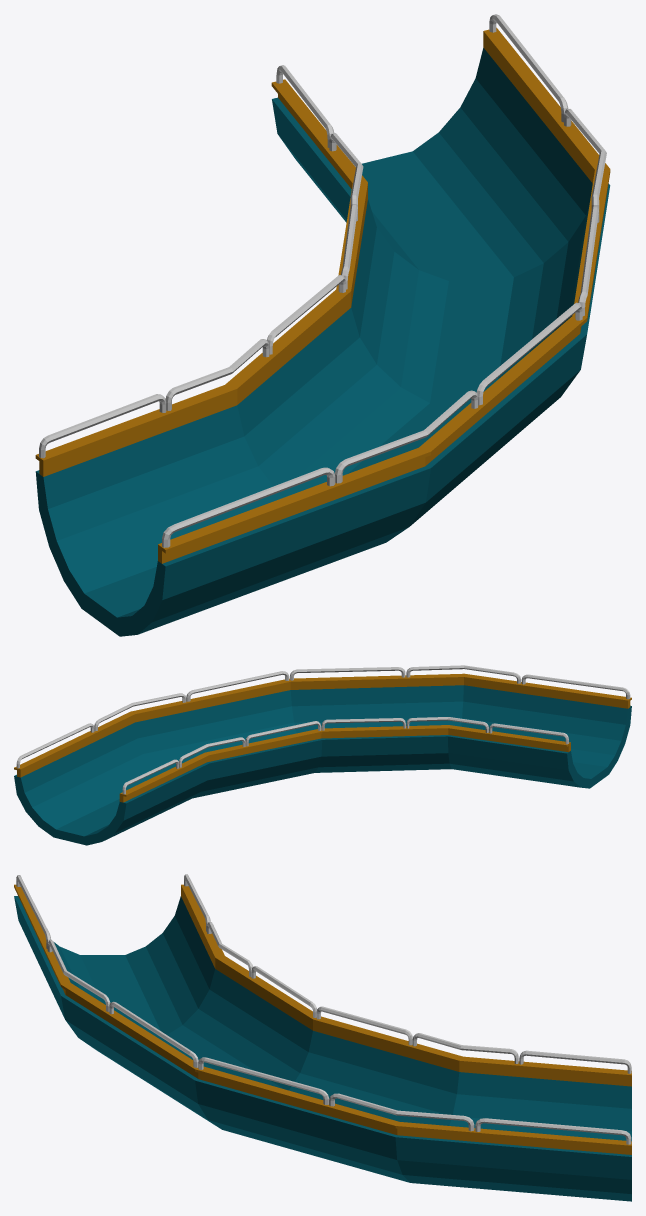
Rendered from halfpipe-curveRight-90_l.FBX.
3 renders of one model, top to bottom at view 1: azimuth 30°, elevation 25°; view 2: azimuth 150°, elevation 25°; view 3: azimuth 270°, elevation 25°, orthographic. The views are drawn at different scales.
Parts seen in each view (by area): view 1: halfpipe-curveRight-60_l, wall_l, wall_r; view 2: halfpipe-curveRight-60_l, wall_l, wall_r; view 3: halfpipe-curveRight-60_l, wall_l, wall_r.
Boxes of the visible parts, x1=… form: halfpipe-curveRight-60_l: x1=35, y1=48, x2=610, y2=636; wall_l: x1=158, y1=14, x2=610, y2=563; wall_r: x1=35, y1=65, x2=367, y2=476; halfpipe-curveRight-60_l: x1=14, y1=685, x2=631, y2=845; wall_l: x1=14, y1=665, x2=631, y2=777; wall_r: x1=119, y1=717, x2=570, y2=802; halfpipe-curveRight-60_l: x1=14, y1=896, x2=631, y2=1201; wall_l: x1=14, y1=875, x2=631, y2=1154; wall_r: x1=181, y1=874, x2=631, y2=1086.
Size of what is drawn, in the model's own units: 446 by 446 by 75.73.
